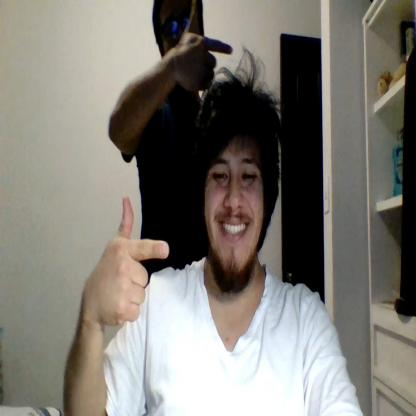G: (100, 196, 168, 324), (178, 0, 233, 90)
